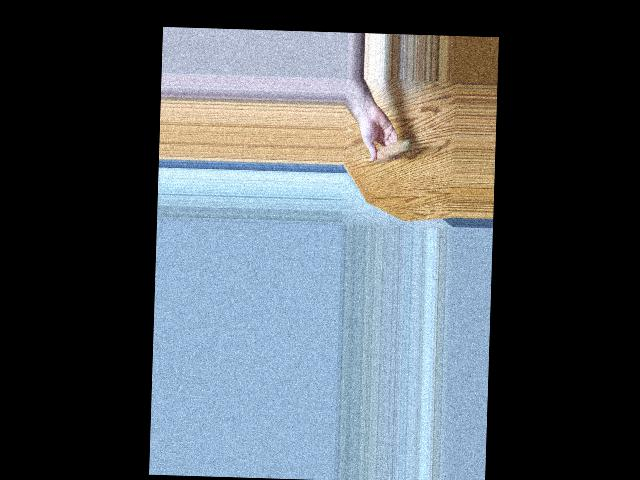sweet_potato: (373, 137, 410, 162)
